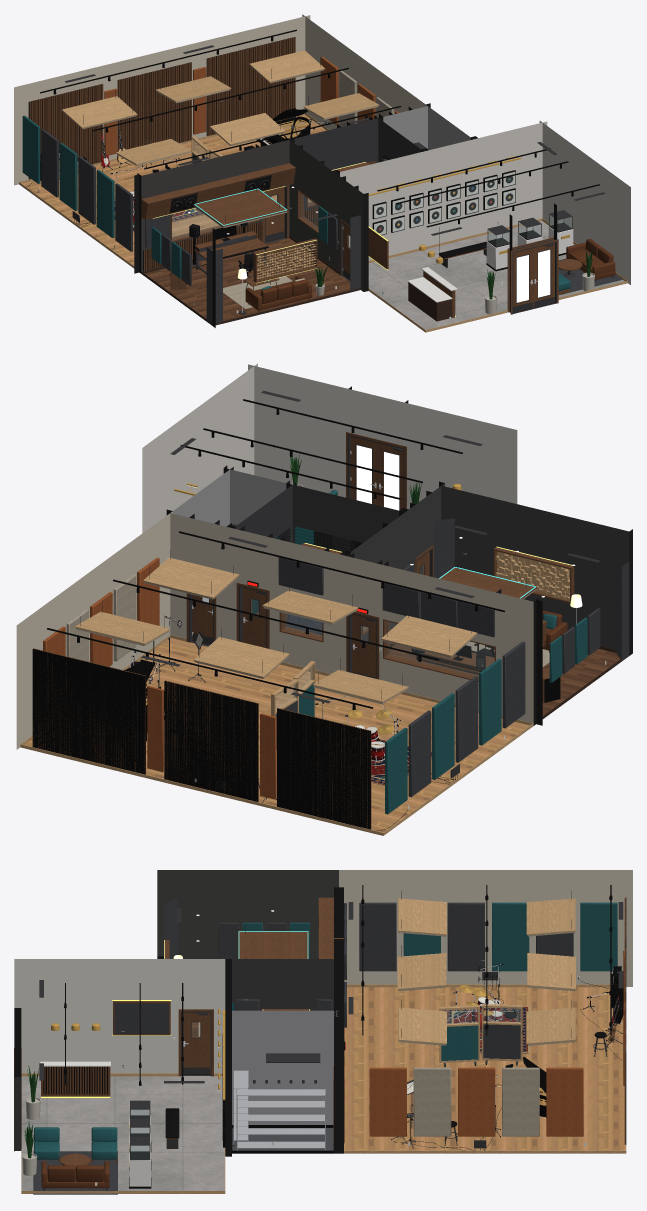
Rendered from RecordingStudio.glb.
3 renders of one model, top to bottom at view 1: azimuth 30°, elevation 25°; view 2: azimuth 150°, elevation 25°; view 3: azimuth 270°, elevation 25°, orthographic. The views are drawn at different scales.
Visible parts, largest first — view 1: Shell_Walls, Shell_Walls_Lobby, TR_Treatment, CR_Treatment, TR_Ceiling_Clouds_Lights, Shell_Floors, Shell_Floors_Lobby, LB_RecordWall, Shell_Windows_Frames, Shell_Details, CR_Diffuser_Skyline, LB_ReceptionDesk (+15 smaller); view 2: Shell_Walls, TR_Treatment, Shell_Walls_Lobby, TR_Ceiling_Clouds_Lights, Shell_Floors, Shell_Windows_Frames, CR_Treatment, Shell_Details, CR_Diffuser_Skyline, LB_Lighting, Door_Entrance_R, Door_Entrance_L (+7 smaller); view 3: Shell_Walls, Shell_Walls_Lobby, TR_Treatment, Shell_Floors, Shell_Floors_Lobby, TR_Ceiling_Clouds_Lights, CR_Treatment, CL_Shelving, LB_ReceptionDesk, TR_Gobo_A, Shell_Details, Shell_Details_Lobby (+19 smaller).
Boxes of the visible parts, x1,y1,x2,y2 form: Shell_Walls: (14, 14, 425, 327); Shell_Walls_Lobby: (340, 103, 630, 291); TR_Treatment: (22, 37, 399, 251); CR_Treatment: (141, 163, 360, 325); TR_Ceiling_Clouds_Lights: (40, 29, 401, 169); Shell_Floors: (22, 114, 350, 320); Shell_Floors_Lobby: (341, 221, 624, 329); LB_RecordWall: (368, 156, 521, 235); Shell_Windows_Frames: (171, 161, 558, 314); Shell_Details: (19, 45, 387, 325); CR_Diffuser_Skyline: (253, 238, 317, 283); LB_ReceptionDesk: (407, 267, 457, 321); Shell_Walls: (16, 482, 632, 749); TR_Treatment: (32, 557, 525, 829); Shell_Walls_Lobby: (142, 363, 517, 533); TR_Ceiling_Clouds_Lights: (47, 531, 504, 710); Shell_Floors: (24, 614, 620, 832); Shell_Windows_Frames: (186, 432, 495, 681); CR_Treatment: (403, 518, 629, 682); Shell_Details: (20, 525, 628, 835); CR_Diffuser_Skyline: (493, 546, 574, 603); LB_Lighting: (180, 399, 462, 499); Door_Entrance_R: (350, 436, 377, 505); Door_Entrance_L: (377, 443, 403, 510); Shell_Walls: (157, 870, 632, 1010); Shell_Walls_Lobby: (14, 959, 343, 1156); TR_Treatment: (344, 897, 626, 1148); Shell_Floors: (344, 987, 625, 1150); Shell_Floors_Lobby: (21, 1075, 333, 1190); TR_Ceiling_Clouds_Lights: (361, 885, 612, 1045); CR_Treatment: (164, 897, 333, 958); CL_Shelving: (233, 1070, 325, 1150); LB_ReceptionDesk: (40, 1061, 110, 1097); TR_Gobo_A: (481, 1004, 523, 1065); Shell_Details: (177, 902, 626, 1153); Shell_Details_Lobby: (21, 980, 333, 1193).
Size of the model in its own units: 14.8 by 3.81 by 18.21.
84 materials, 25 textured.
